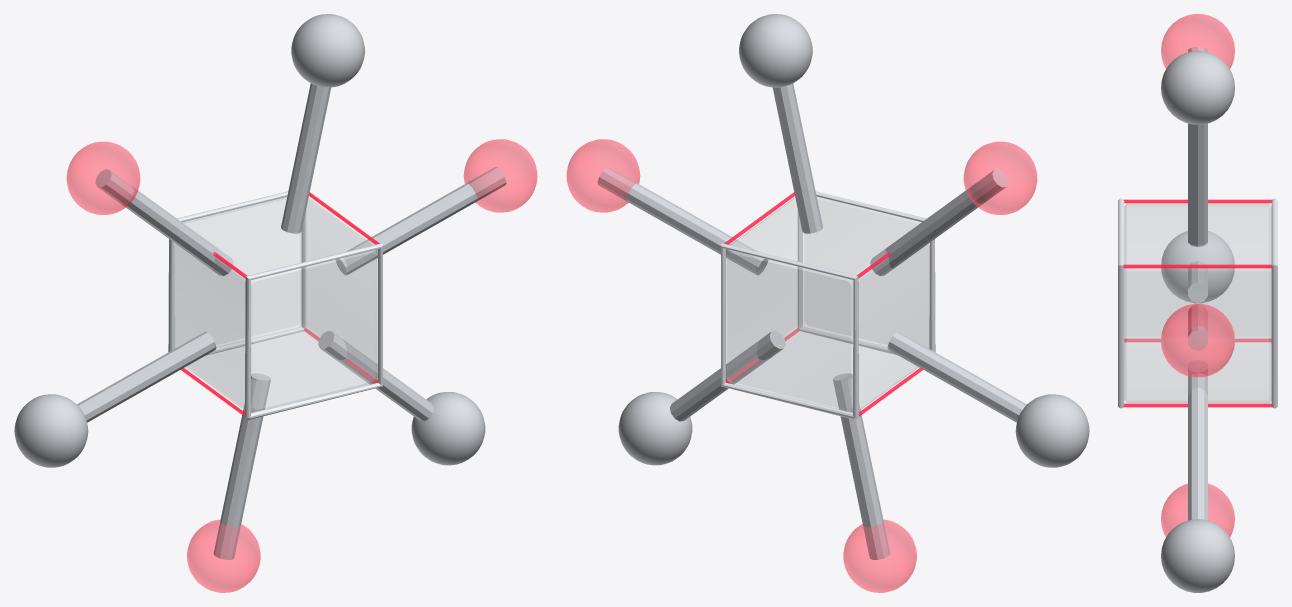
File: 36-connectors.glb
3 views of the same model, side by side, from view 1: azimuth 30°, elevation 25°; view 2: azimuth 150°, elevation 25°; view 3: azimuth 270°, elevation 25° (orthographic).
Visible parts, largest first — view 1: BC clear optical glass, BC satin silver metal, BC ruby optical glass, BC polished silver metal, BC neon red glass edge; view 2: BC clear optical glass, BC satin silver metal, BC ruby optical glass, BC polished silver metal, BC neon red glass edge; view 3: BC clear optical glass, BC satin silver metal, BC ruby optical glass, BC polished silver metal, BC neon red glass edge.
Part boxes in pixels (x1=…): BC clear optical glass: x1=174, y1=197, x2=377, y2=412; BC satin silver metal: x1=14, y1=14, x2=506, y2=559; BC ruby optical glass: x1=66, y1=139, x2=537, y2=592; BC polished silver metal: x1=168, y1=191, x2=382, y2=419; BC neon red glass edge: x1=181, y1=192, x2=379, y2=418; BC clear optical glass: x1=726, y1=197, x2=929, y2=412; BC satin silver metal: x1=597, y1=14, x2=1089, y2=559; BC ruby optical glass: x1=566, y1=139, x2=1037, y2=592; BC polished silver metal: x1=721, y1=191, x2=935, y2=419; BC neon red glass edge: x1=724, y1=192, x2=922, y2=418; BC clear optical glass: x1=1124, y1=203, x2=1271, y2=403; BC satin silver metal: x1=1161, y1=47, x2=1234, y2=592; BC ruby optical glass: x1=1161, y1=14, x2=1234, y2=536; BC polished silver metal: x1=1118, y1=198, x2=1277, y2=408; BC neon red glass edge: x1=1123, y1=199, x2=1272, y2=407.
Size of the model in its own units: 2.25 by 2.29 by 0.6028.
